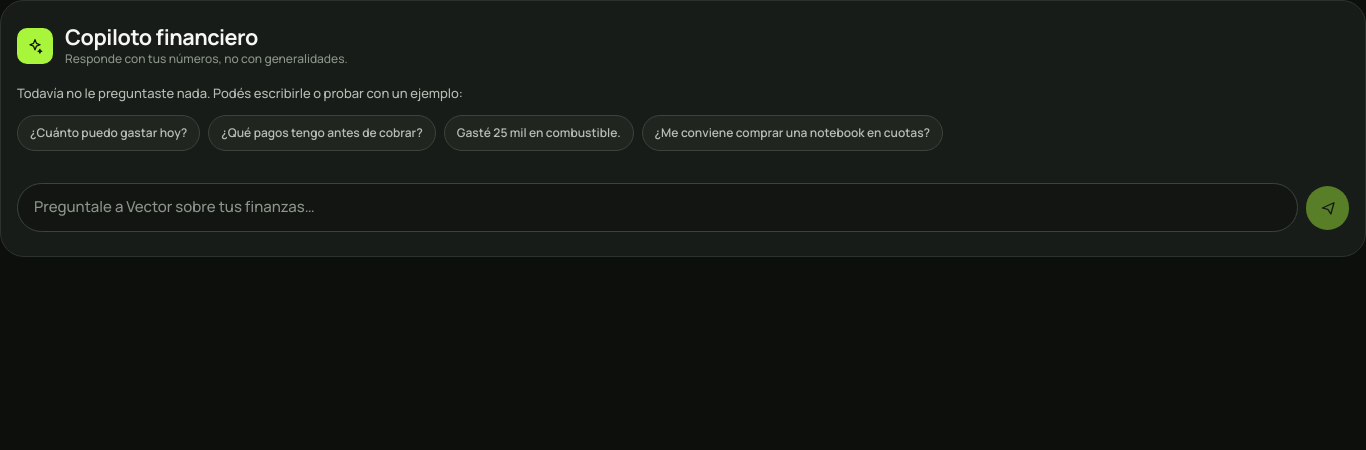
Test: CopilotPanel › pausa una escritura y la aplica solo al aprobar
In the field named "Escribile al copiloto": (658, 208) x1=17 y1=183 x2=1298 y2=232, type "Gasté 25 lucas en nafta"
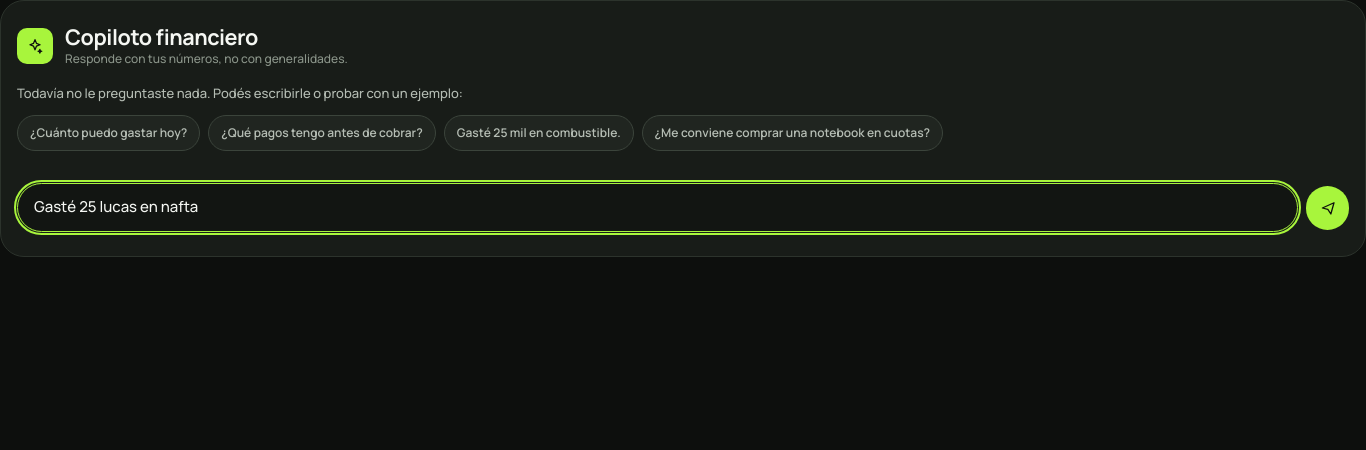
Click the button named "Enviar": (1328, 208) x1=1306 y1=186 x2=1349 y2=230
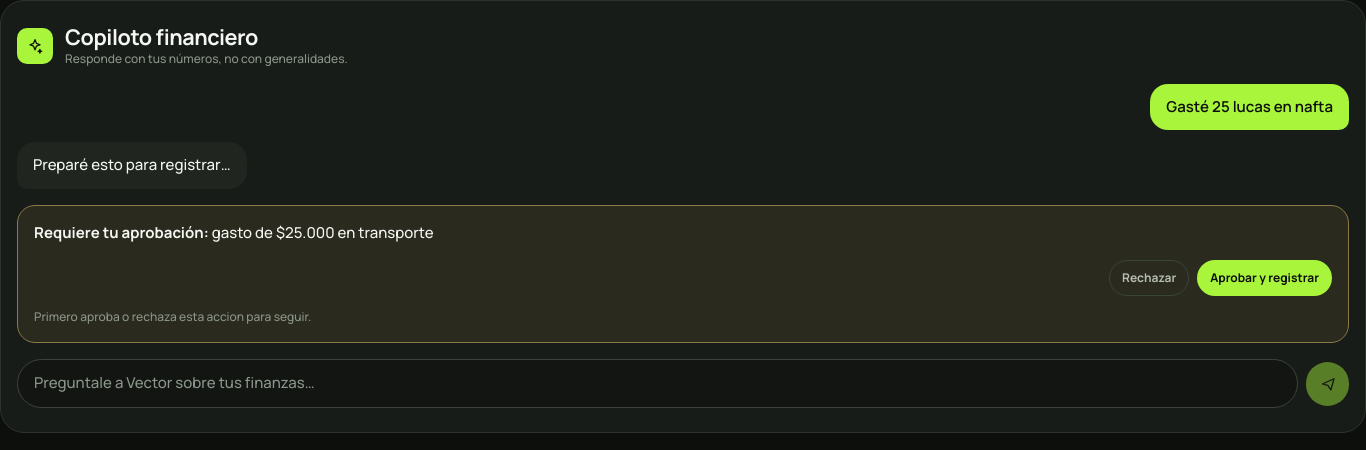
Expected: the text "Requiere tu aprobación:" is shown, x1=34 y1=222 x2=209 y2=243
Expected: the text "Primero aproba o rechaza esta accion para seguir." is shown, x1=34 y1=308 x2=311 y2=325
Expected: the field named "Escribile al copiloto" is disabled, x1=17 y1=359 x2=1298 y2=408
Click the button "Aprobar y registrar": (1265, 278) x1=1197 y1=260 x2=1332 y2=296
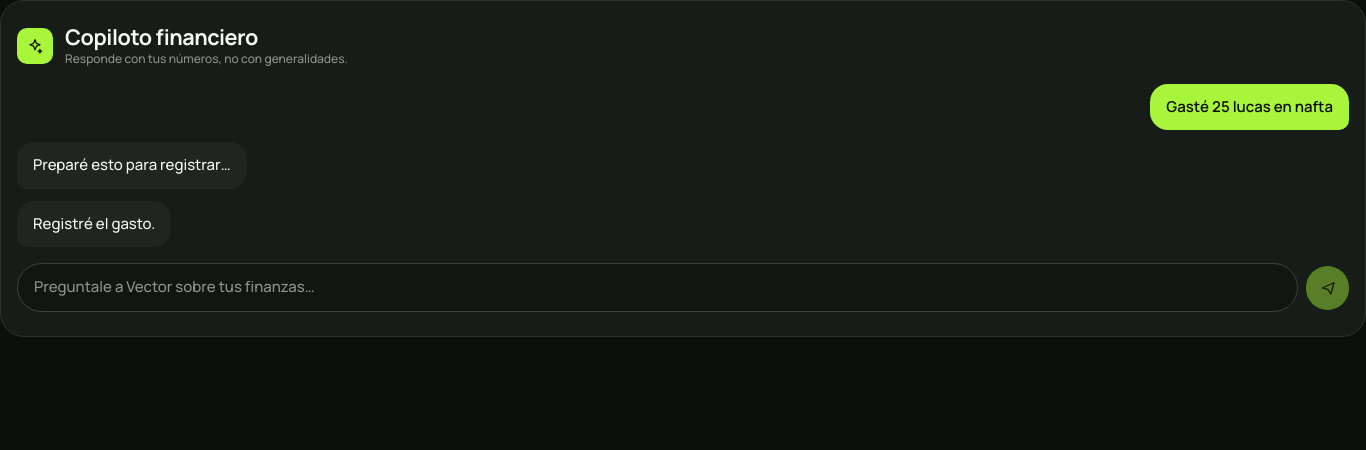
Expected: the text "Registré el gasto." is shown, x1=33 y1=213 x2=155 y2=235
